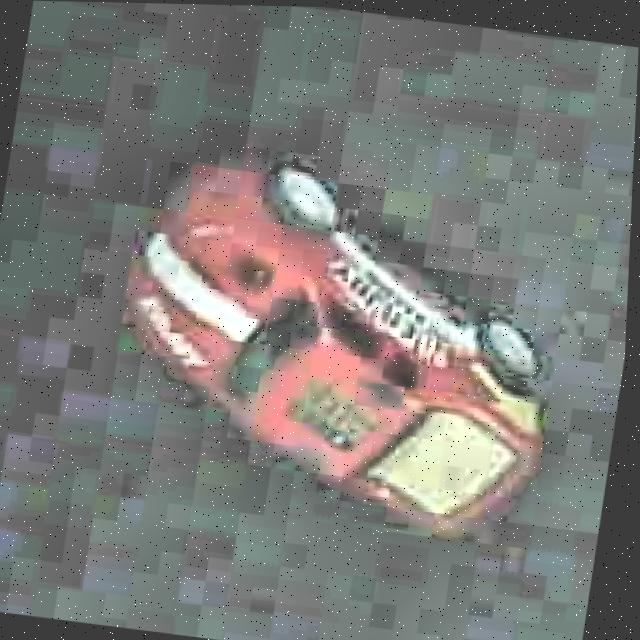car: (87, 132, 586, 553)
